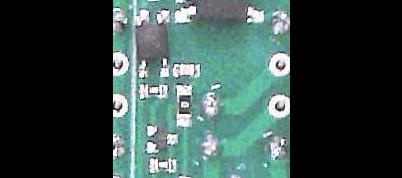chip-capacitor: (170, 61, 202, 79)
chip-resistor: (173, 83, 193, 128), (138, 81, 169, 103), (146, 156, 177, 175)
ic: (171, 0, 268, 28), (134, 6, 170, 80)
transistor: (142, 123, 178, 156)
